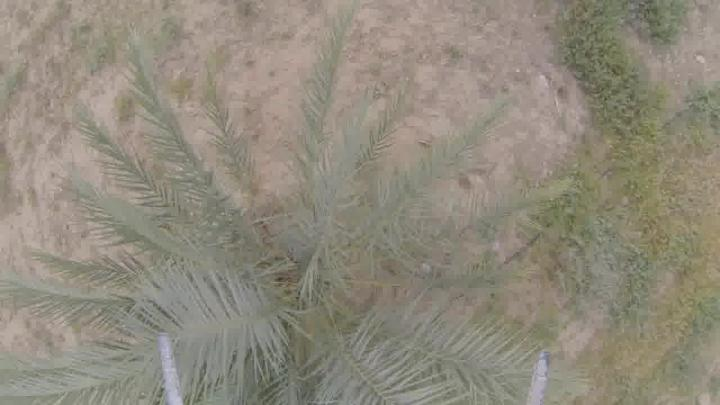Date-Palm-Crown: (138, 182, 444, 404)
